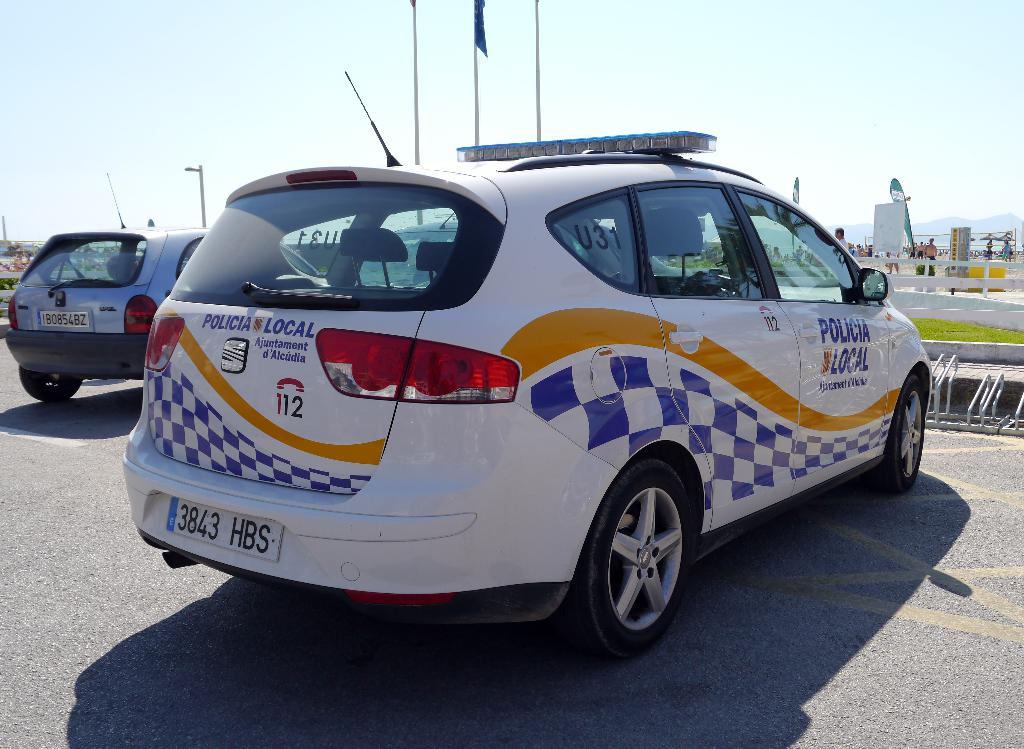license plate: (174, 496, 293, 532), (38, 309, 93, 328)
